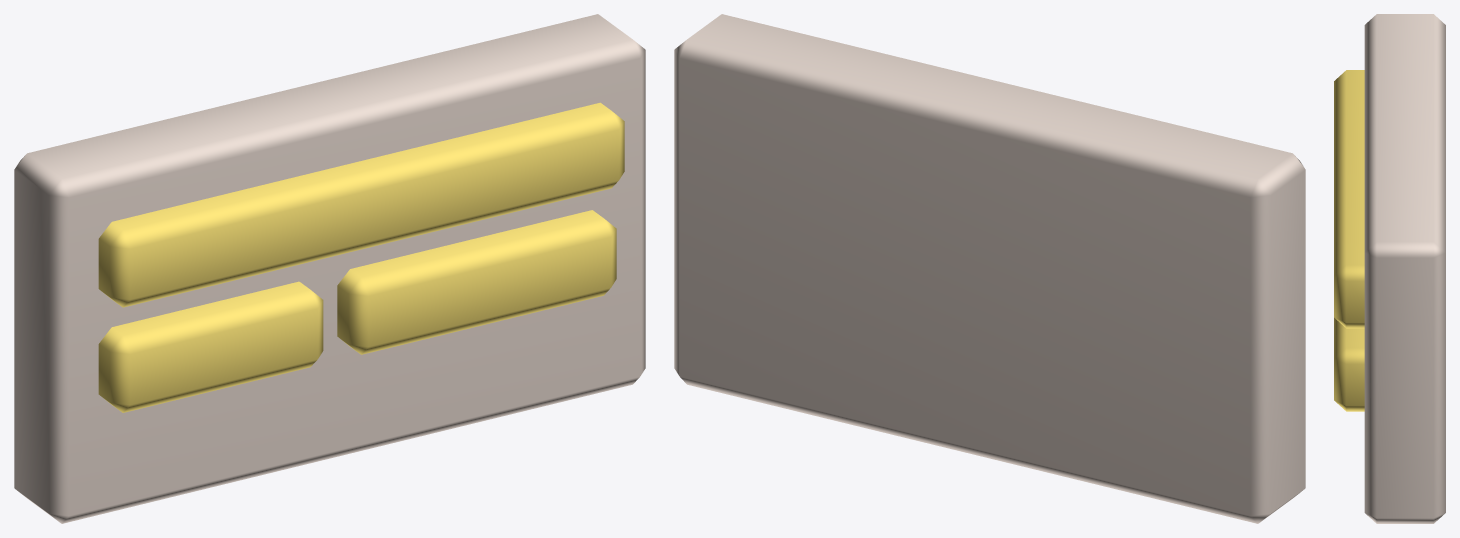
File: Note_1.glb
3 views of the same model, side by side, from view 1: azimuth 30°, elevation 25°; view 2: azimuth 150°, elevation 25°; view 3: azimuth 270°, elevation 25° (orthographic). The views are drawn at different scales.
Visible parts, largest first — view 1: Note_1; view 2: Note_1; view 3: Note_1.
Part boxes in pixels (left/top/right/bottom): Note_1: left=14, top=14, right=645, bottom=523; Note_1: left=674, top=14, right=1305, bottom=523; Note_1: left=1334, top=14, right=1445, bottom=523.
Bounding box in the file's own units: 0.4634 × 0.2561 × 0.0919.
Materials: 1 (1 with a texture image).
